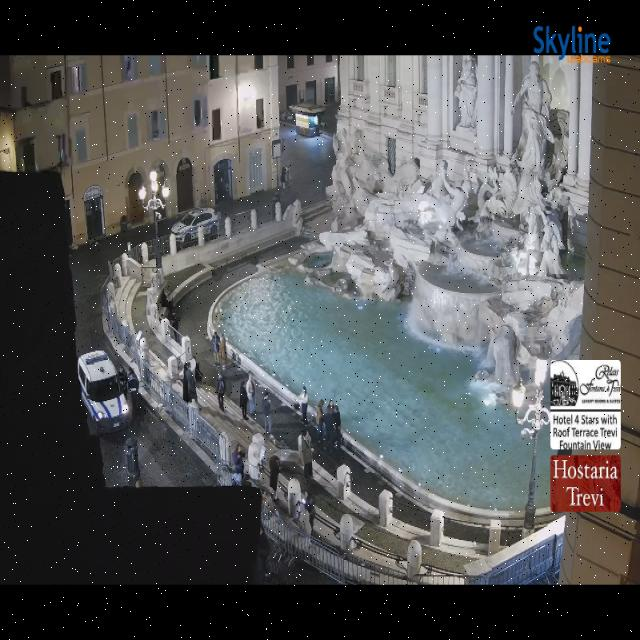person: (259, 524, 270, 579), (302, 428, 313, 481), (269, 455, 281, 501), (128, 368, 139, 417), (324, 400, 334, 447), (232, 445, 244, 484), (185, 363, 196, 402), (305, 492, 315, 534), (247, 373, 256, 415), (263, 391, 271, 435), (316, 399, 324, 442), (216, 373, 225, 411), (182, 362, 190, 403), (334, 405, 341, 449), (212, 331, 220, 365), (300, 386, 307, 424), (240, 384, 247, 419), (220, 333, 227, 367), (118, 368, 127, 394), (170, 310, 178, 331), (195, 363, 203, 383), (281, 166, 286, 187), (328, 399, 334, 411)
